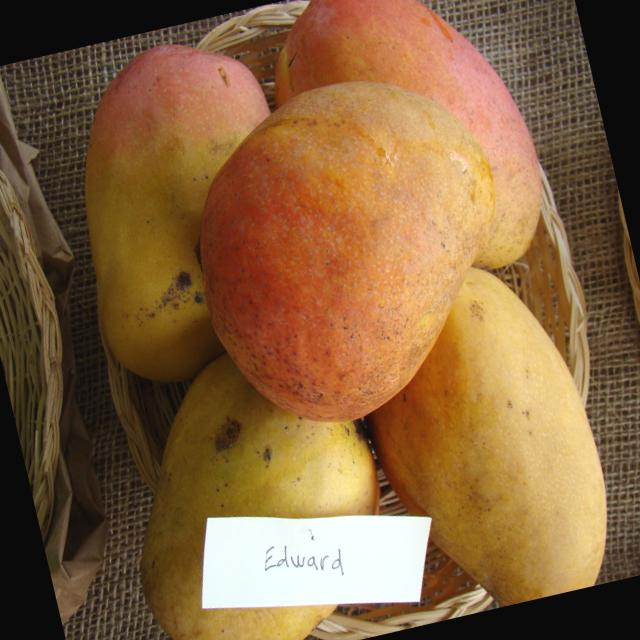mango: (171, 62, 542, 438), (337, 246, 624, 618), (43, 24, 324, 396), (95, 326, 405, 640)
